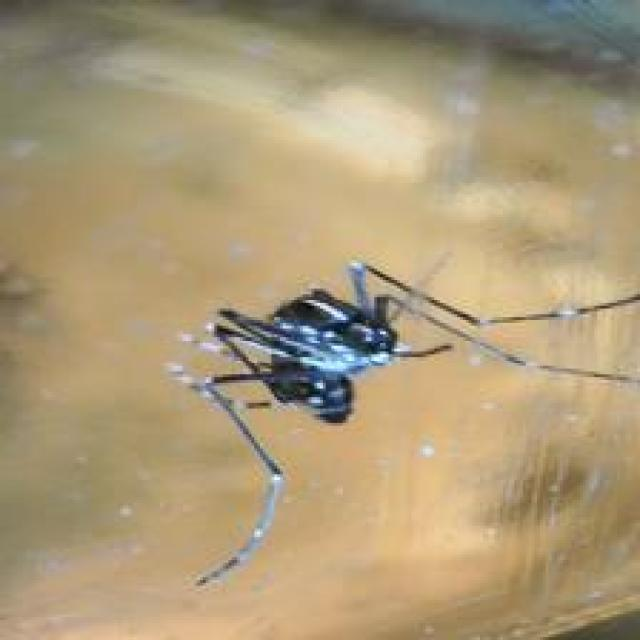Aedes albopictus: (165, 250, 640, 590)
